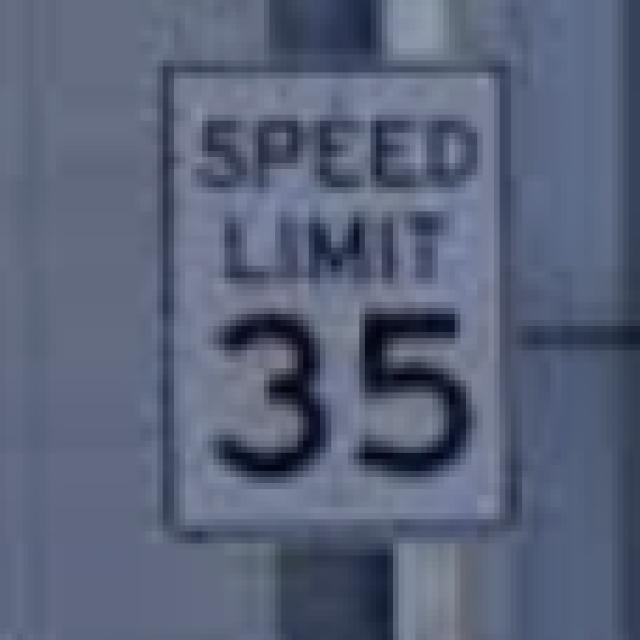speedLimit35: (160, 60, 515, 530)
